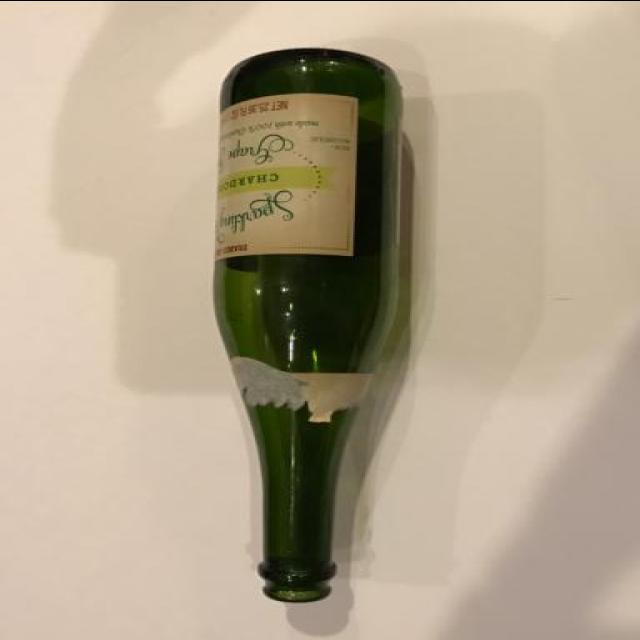litter: (215, 46, 390, 604)
